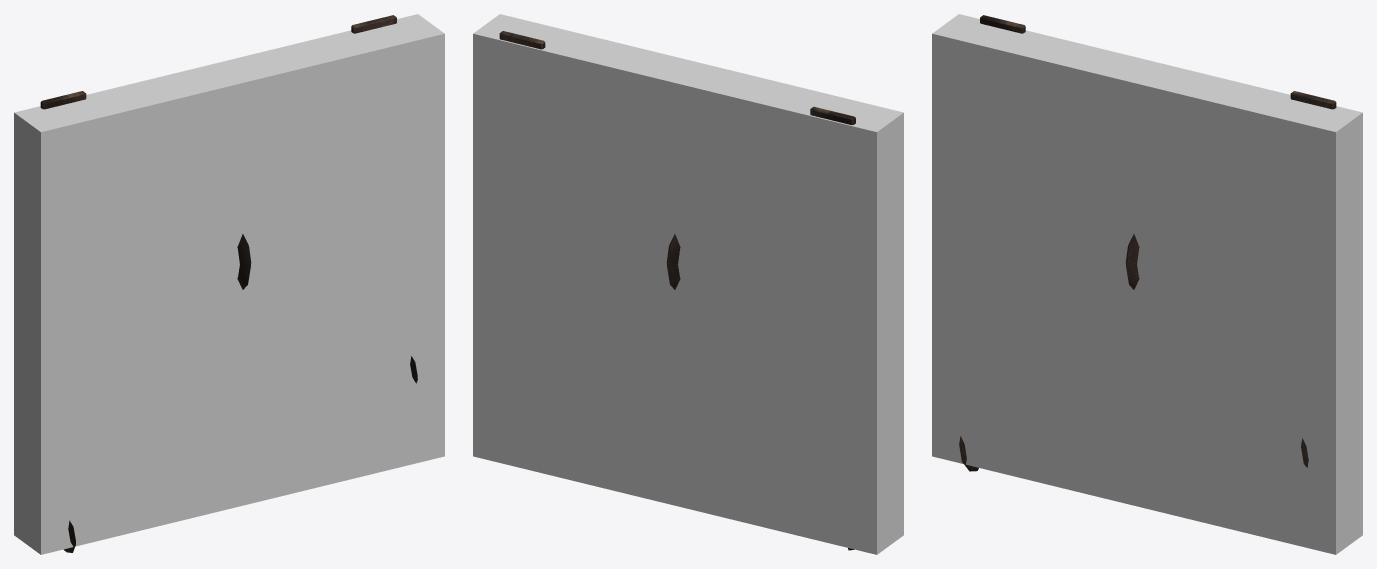
The model's file is chains_shackles_v1.glb.
The picture shows the model from 3 angles, left to right: view 1: azimuth 30°, elevation 25°; view 2: azimuth 150°, elevation 25°; view 3: azimuth 330°, elevation 25°; orthographic projection.
Parts seen in each view (by area): view 1: col_chains, chains; view 2: col_chains, chains; view 3: col_chains, chains.
Part boxes in pixels (x1=…): col_chains: x1=14, y1=14, x2=444, y2=554; chains: x1=40, y1=15, x2=417, y2=552; col_chains: x1=473, y1=14, x2=903, y2=554; chains: x1=499, y1=31, x2=855, y2=550; col_chains: x1=932, y1=14, x2=1362, y2=554; chains: x1=959, y1=15, x2=1336, y2=471.
Size of the model in its own units: 1.3 by 1.36 by 0.2376.
Materials: 1 (1 with a texture image).
